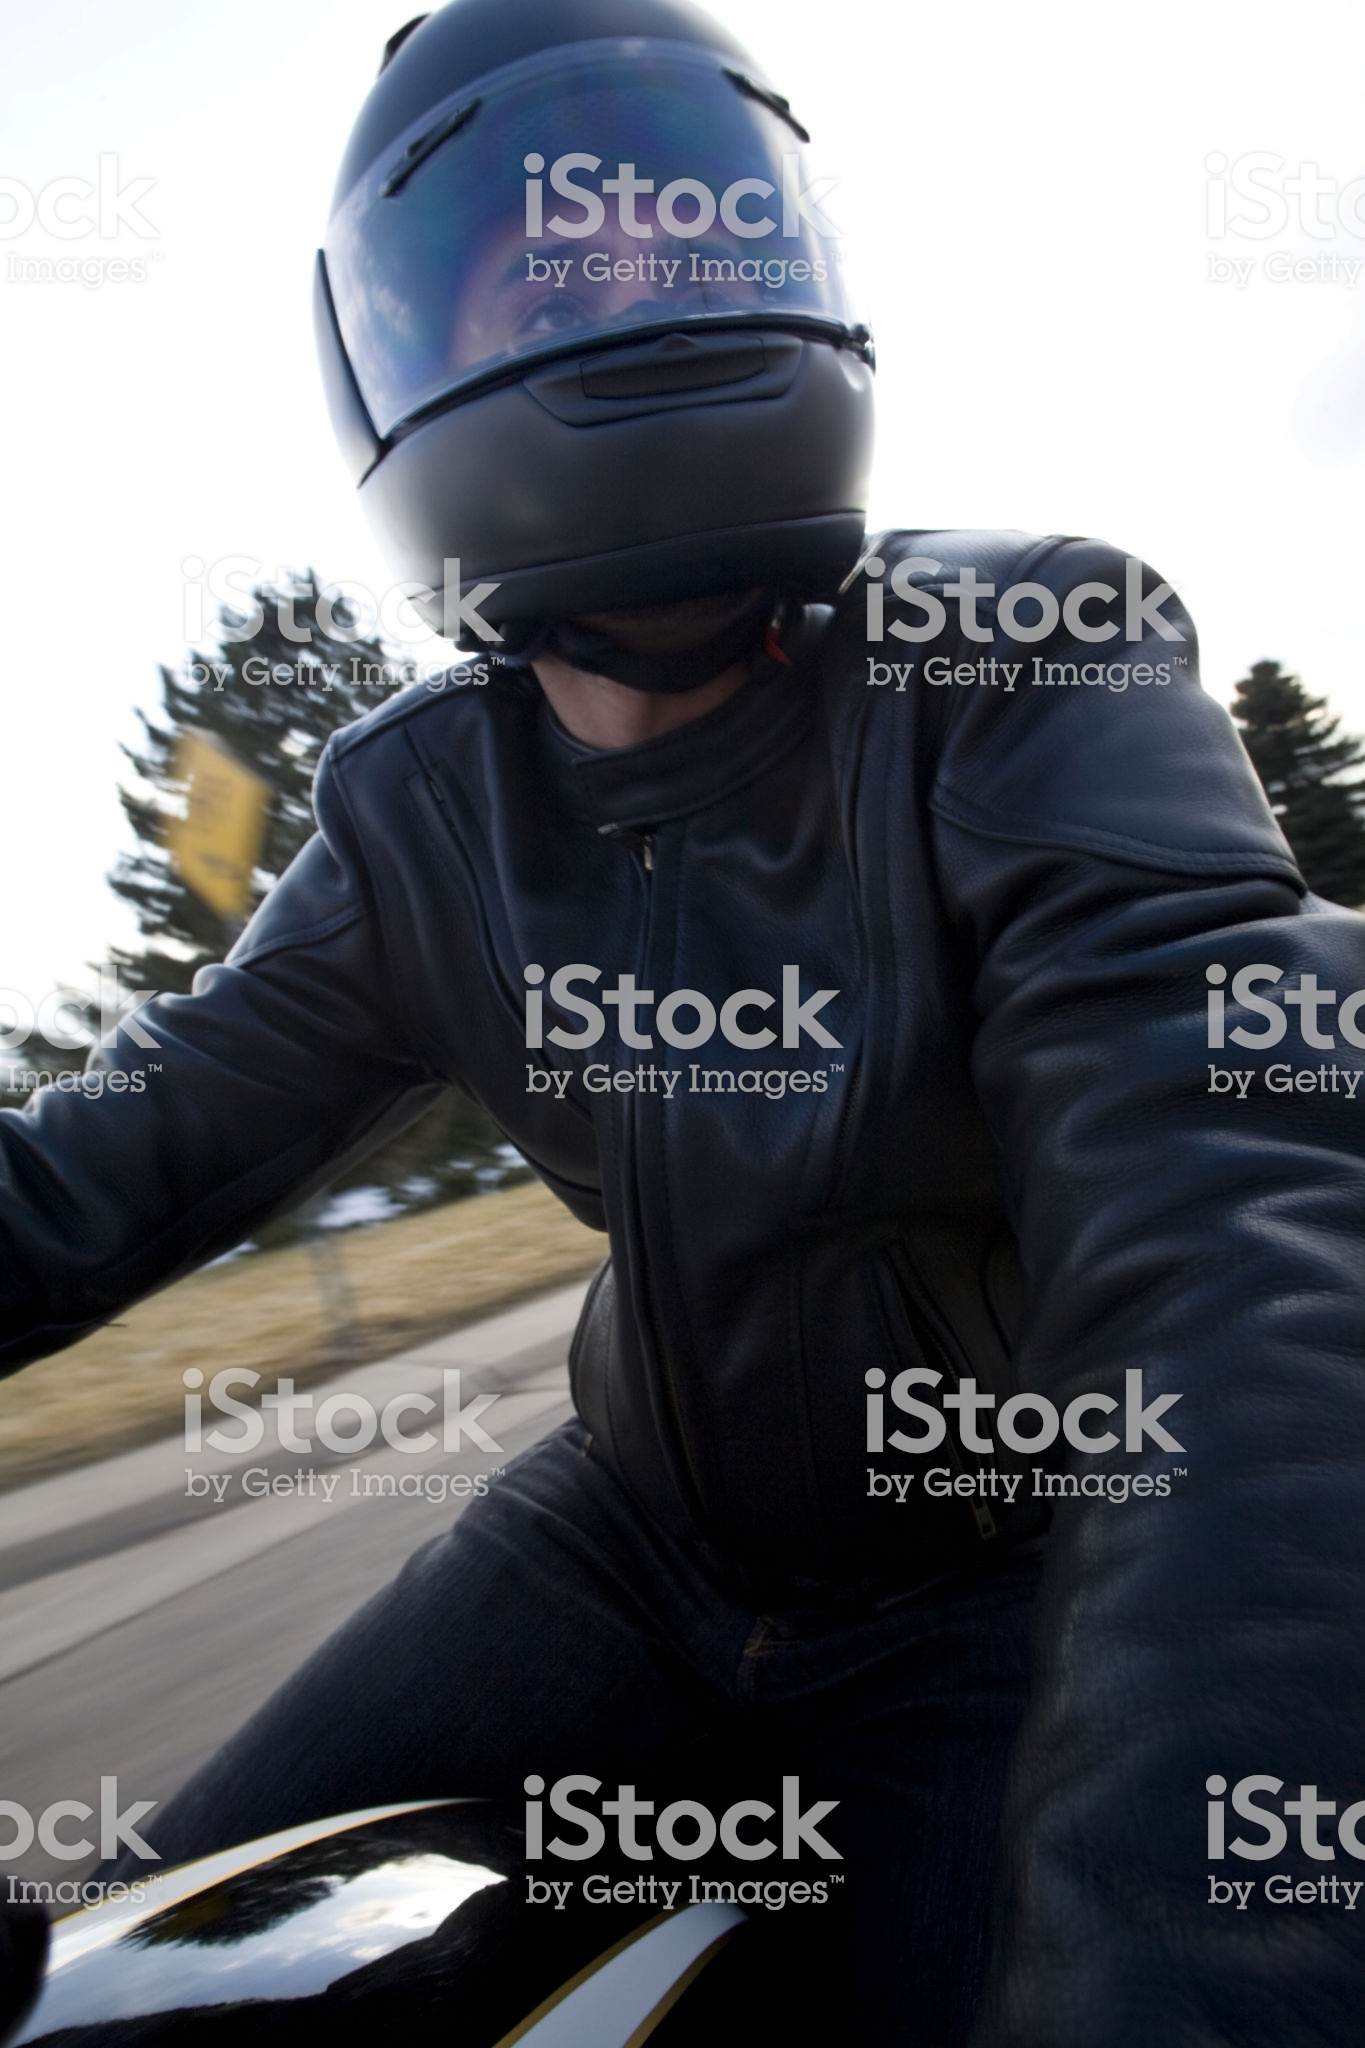helmet: (282, 38, 879, 553)
